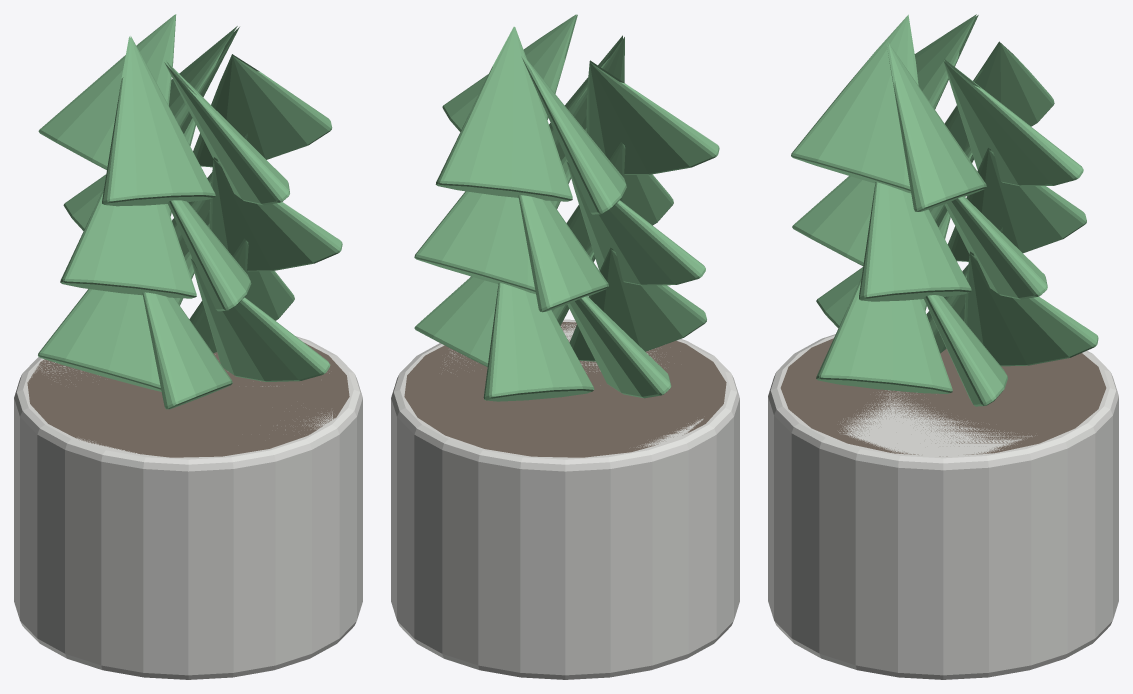
File: isometric_modern_office_kit_12.glb
3 renders of one model, left to right at view 1: azimuth 30°, elevation 25°; view 2: azimuth 150°, elevation 25°; view 3: azimuth 270°, elevation 25°, orthographic.
Visible parts, largest first — view 1: Cylinder; view 2: Cylinder; view 3: Cylinder.
Boxes of the visible parts, bbox=[...] form: Cylinder: bbox=[14, 14, 362, 679]; Cylinder: bbox=[391, 14, 739, 679]; Cylinder: bbox=[768, 14, 1118, 679].
Size of the model in its own units: 0.546 by 0.9875 by 0.546.
